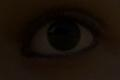eye: (47, 19, 80, 50)
